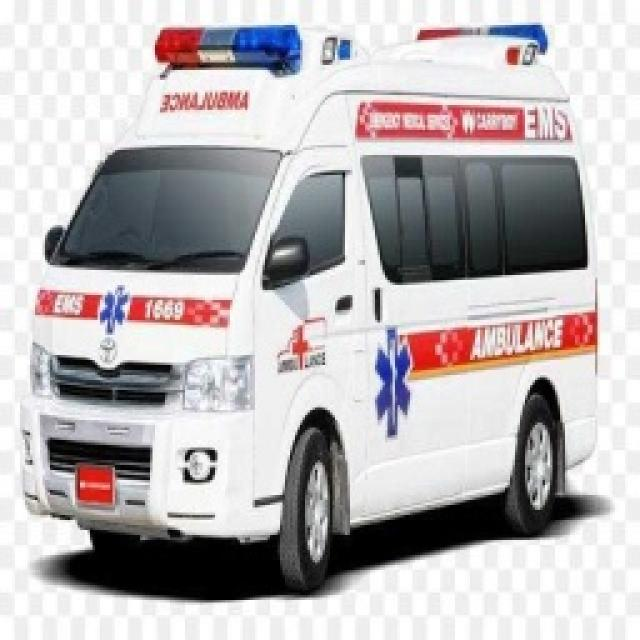ambulance: (20, 28, 610, 602)
